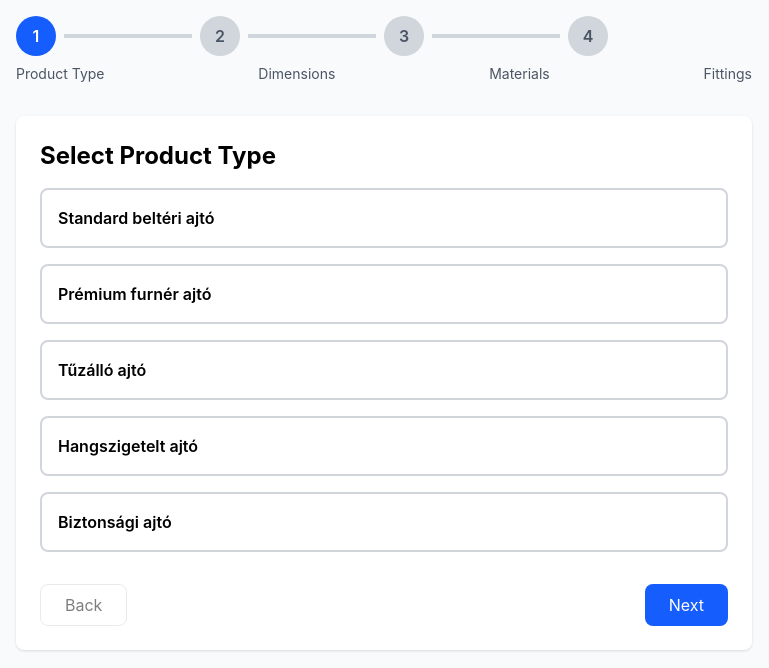
Scenario: ProductConfiguratorWizard › allows navigation back to previous step
Note: Select product and go to step 2
Click the button "Standard beltéri ajtó".
click(136, 218)  # box [40, 188, 728, 248]
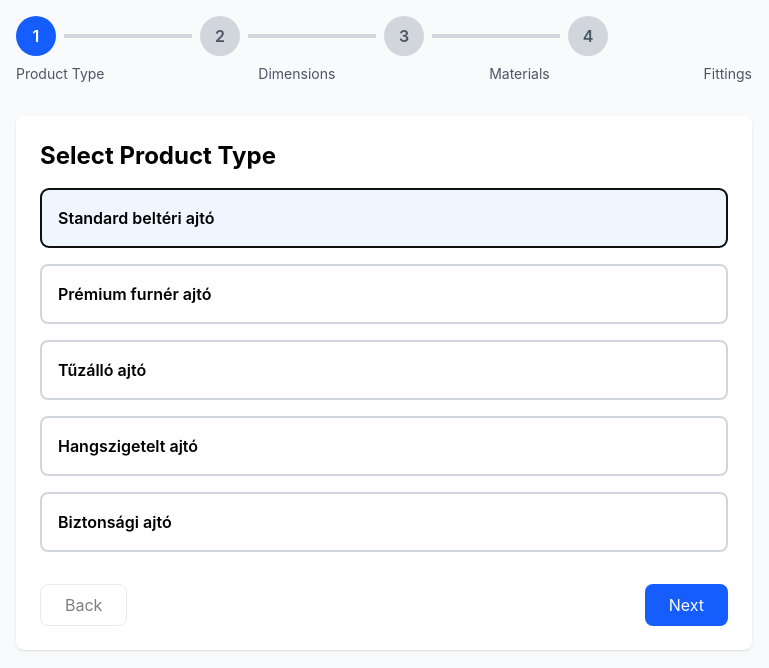
Click the button "Next".
click(686, 605)  # box [645, 584, 728, 626]
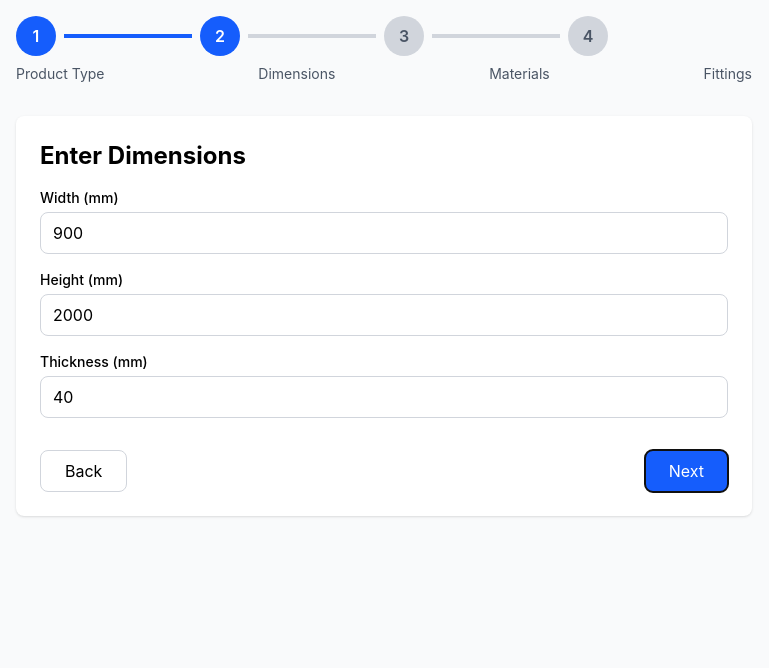
Result: the heading "Enter Dimensions" is shown at [40, 141, 246, 170]
Note: Click Back
Click the button "Back".
click(84, 471)  # box [40, 450, 127, 492]
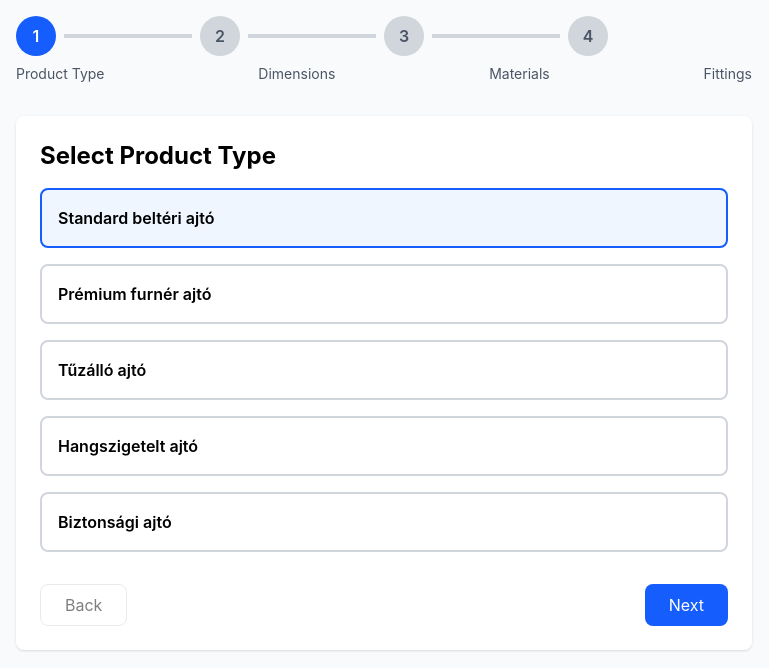
Result: the heading "Select Product Type" is shown at [40, 141, 276, 170]
